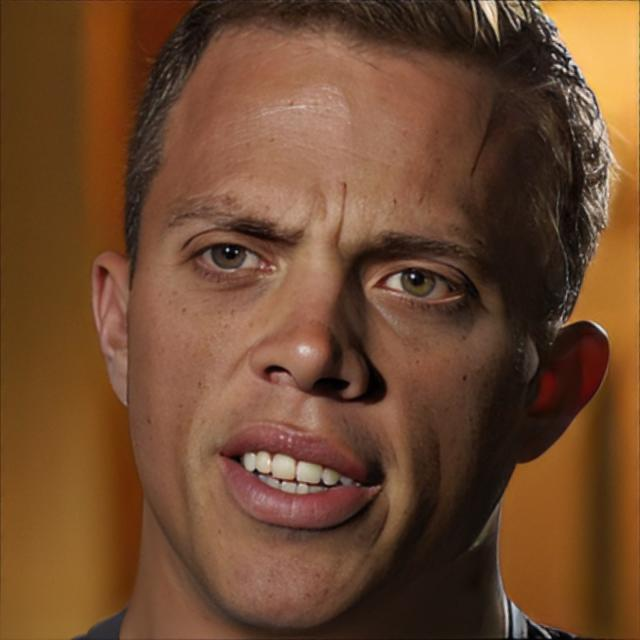disgust: (127, 16, 551, 632)
